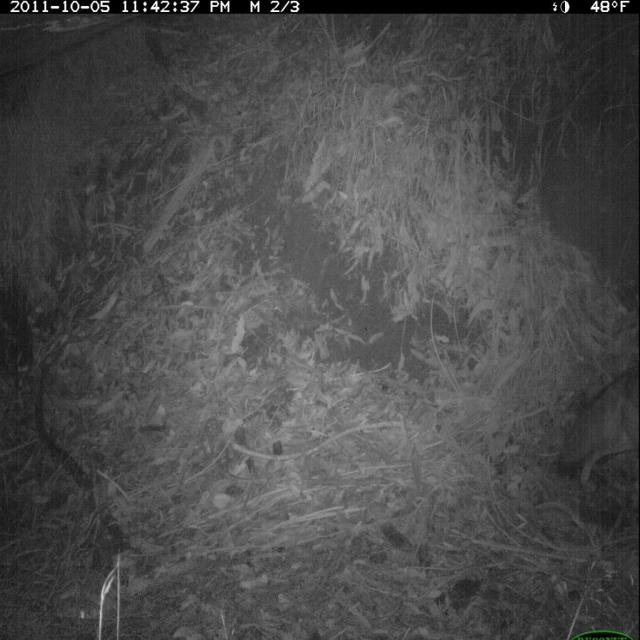coyote: (548, 343, 640, 500)
